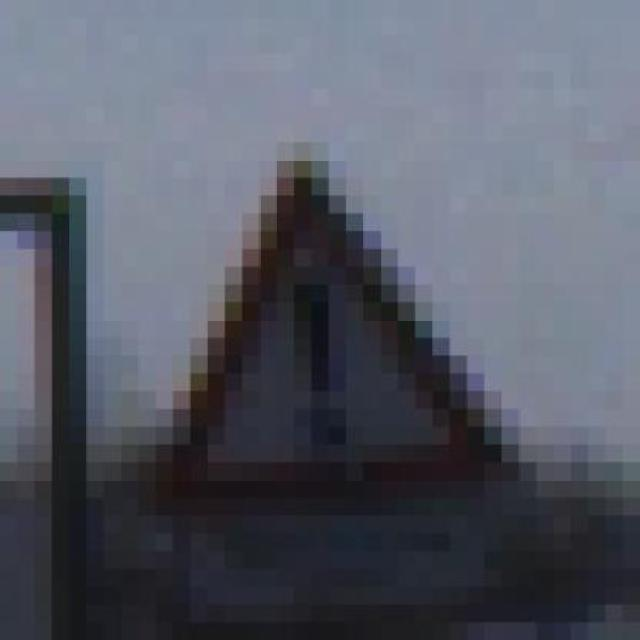Attention Please-: (138, 143, 536, 552)
